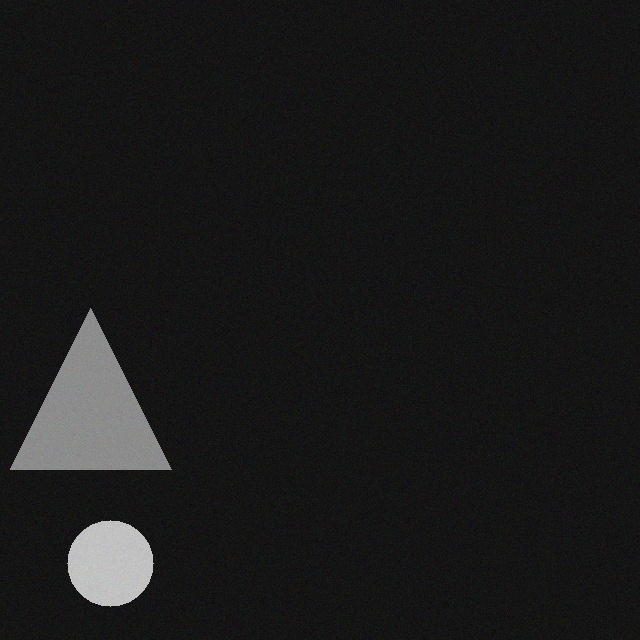circle: (79, 519, 165, 605)
triangle: (22, 307, 183, 468)
